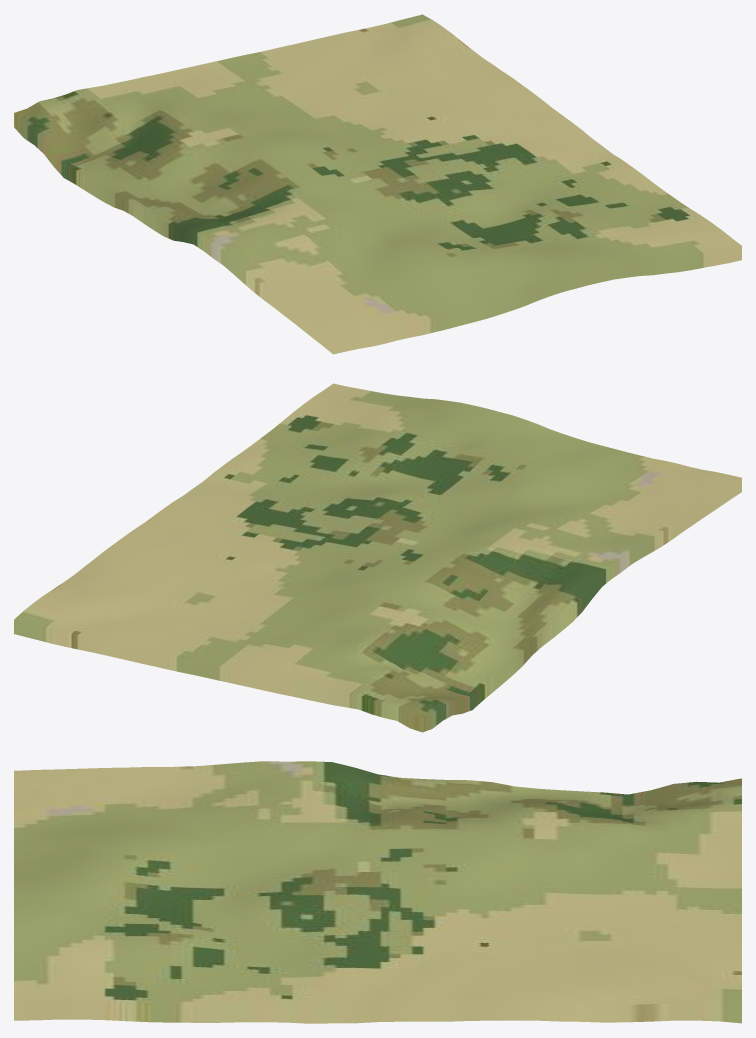
The picture shows the model from 3 angles, top to bottom: view 1: azimuth 30°, elevation 25°; view 2: azimuth 150°, elevation 25°; view 3: azimuth 270°, elevation 25°; orthographic projection. The views are drawn at different scales.
Size of the model in its own units: 902 by 93.65 by 1221.
Materials: 1 (1 with a texture image).
